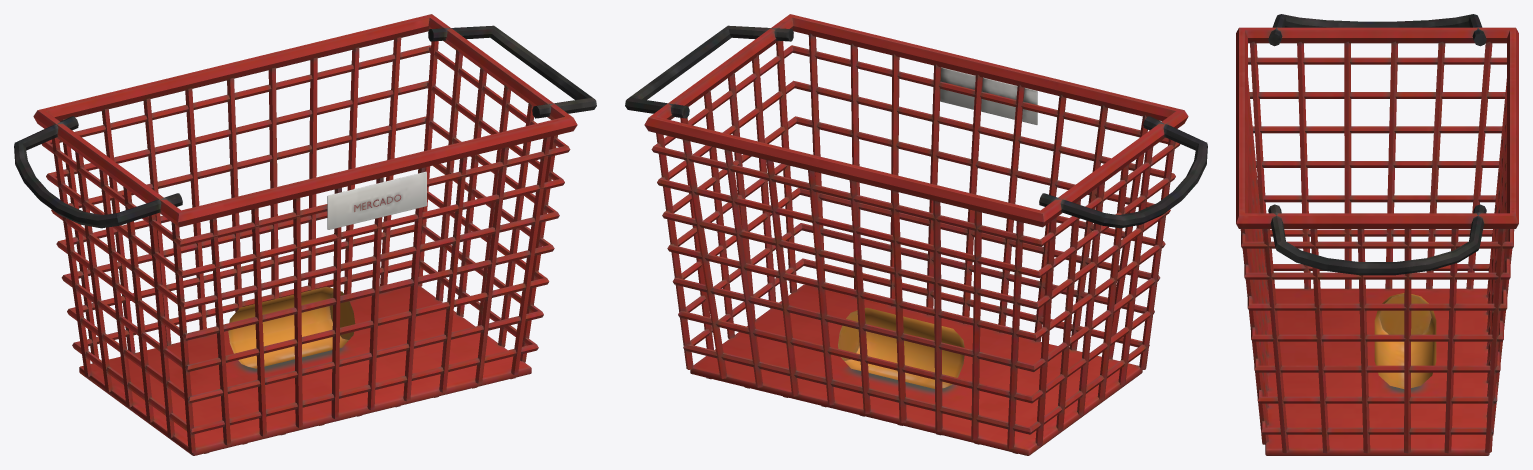
Rendered from cesta_compras.glb.
3 views of the same model, side by side, from view 1: azimuth 30°, elevation 25°; view 2: azimuth 150°, elevation 25°; view 3: azimuth 270°, elevation 25° (orthographic). The views are drawn at different scales.
Visible parts, largest first — view 1: cesta; view 2: cesta; view 3: cesta.
Part boxes in pixels (x1,y1,x2,y2): cesta: [14, 14, 596, 455]; cesta: [625, 14, 1207, 455]; cesta: [1236, 14, 1518, 455].
Bounding box in the file's own units: 0.6222 × 0.3059 × 0.3027.
Materials: 1 (1 with a texture image).
